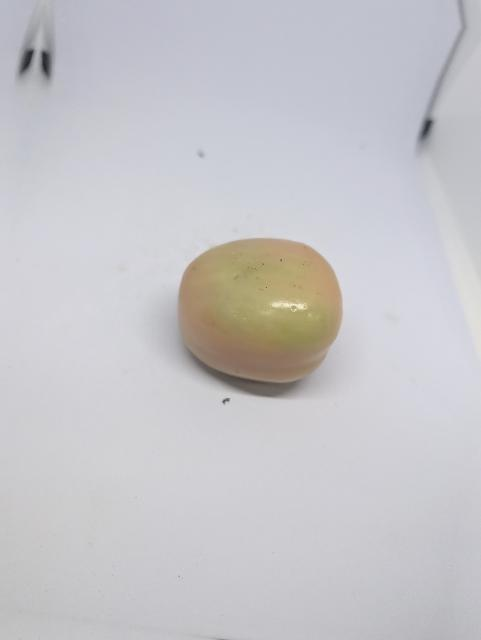breaker: (174, 234, 347, 386)
